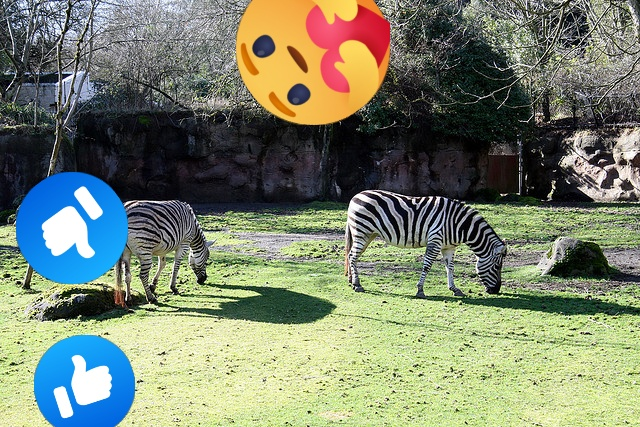care: (236, 0, 390, 125)
like: (16, 172, 128, 284), (34, 335, 135, 427)
